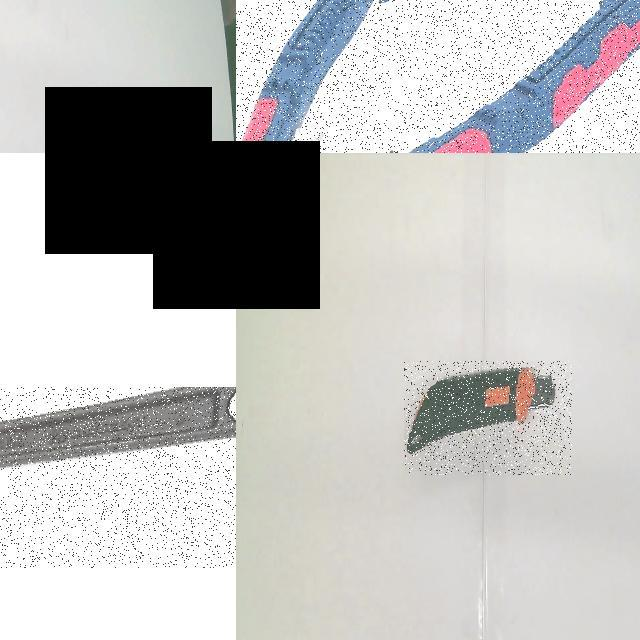estilete: (407, 368, 554, 453)
